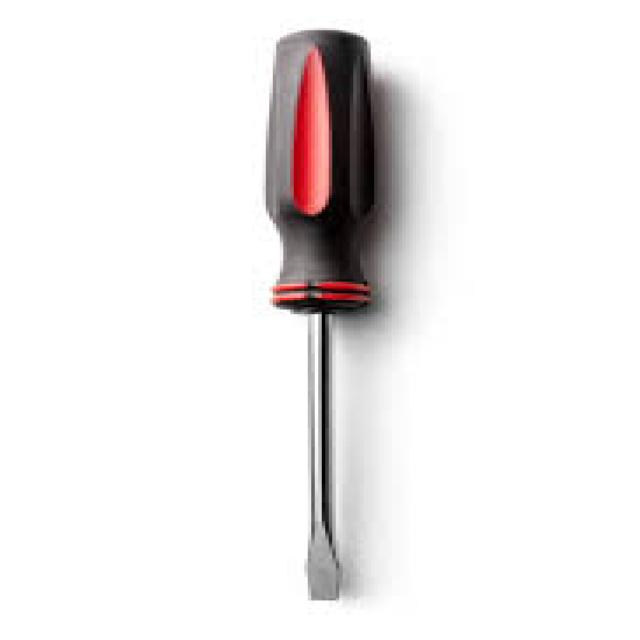Screwdriver: (266, 30, 374, 603)
